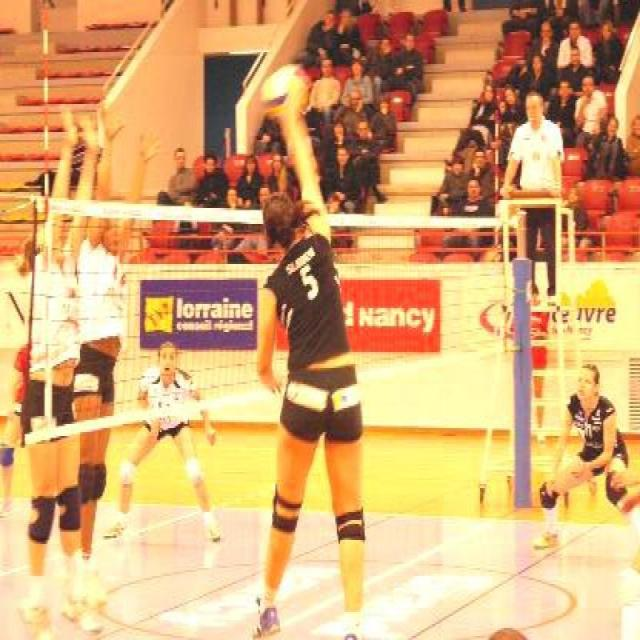volleyball: (260, 64, 306, 120)
